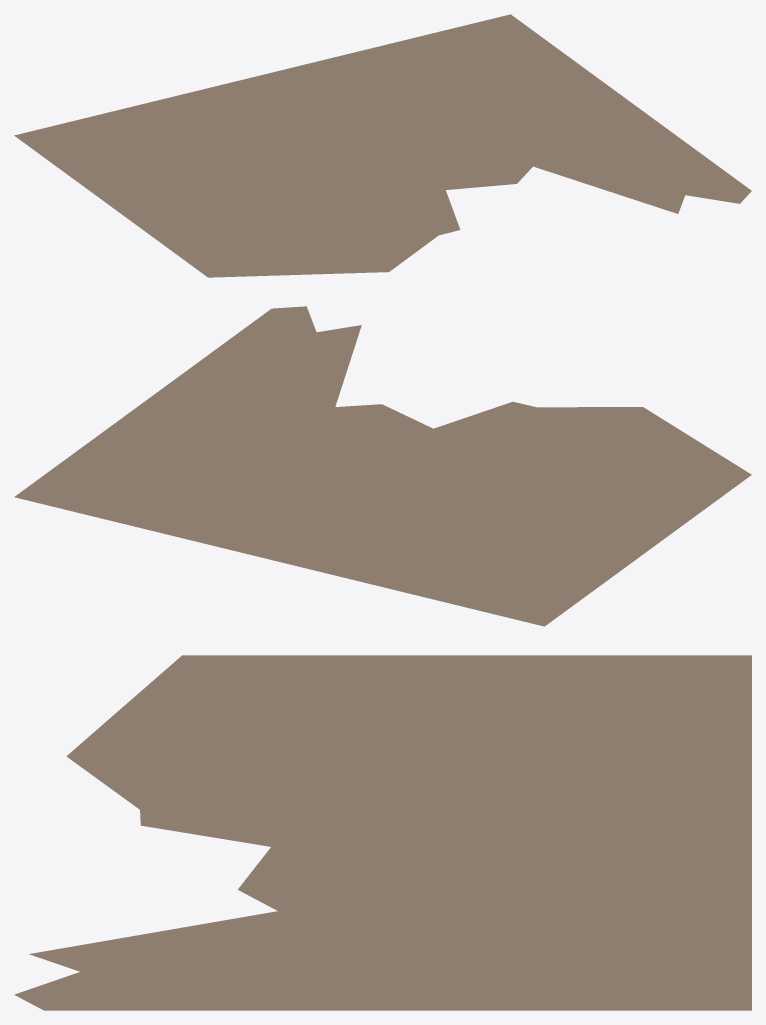
Rendered from Letter2.fbx.
3 views of the same model, one above another, from view 1: azimuth 30°, elevation 25°; view 2: azimuth 150°, elevation 25°; view 3: azimuth 270°, elevation 25° (orthographic). The views are drawn at different scales.
Parts seen in each view (by area): view 1: Cube.050; view 2: Cube.050; view 3: Cube.050.
Part boxes in pixels (<box>): Cube.050: <box>14,14,751,277</box>; Cube.050: <box>14,306,751,626</box>; Cube.050: <box>14,655,751,1010</box>.
Bounding box in the file's own units: 60.37 × 0 × 52.96.
